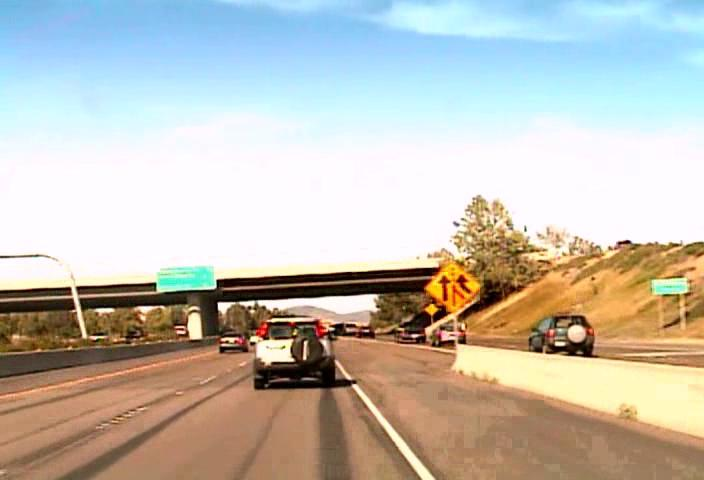addedLane: (423, 259, 480, 312)
